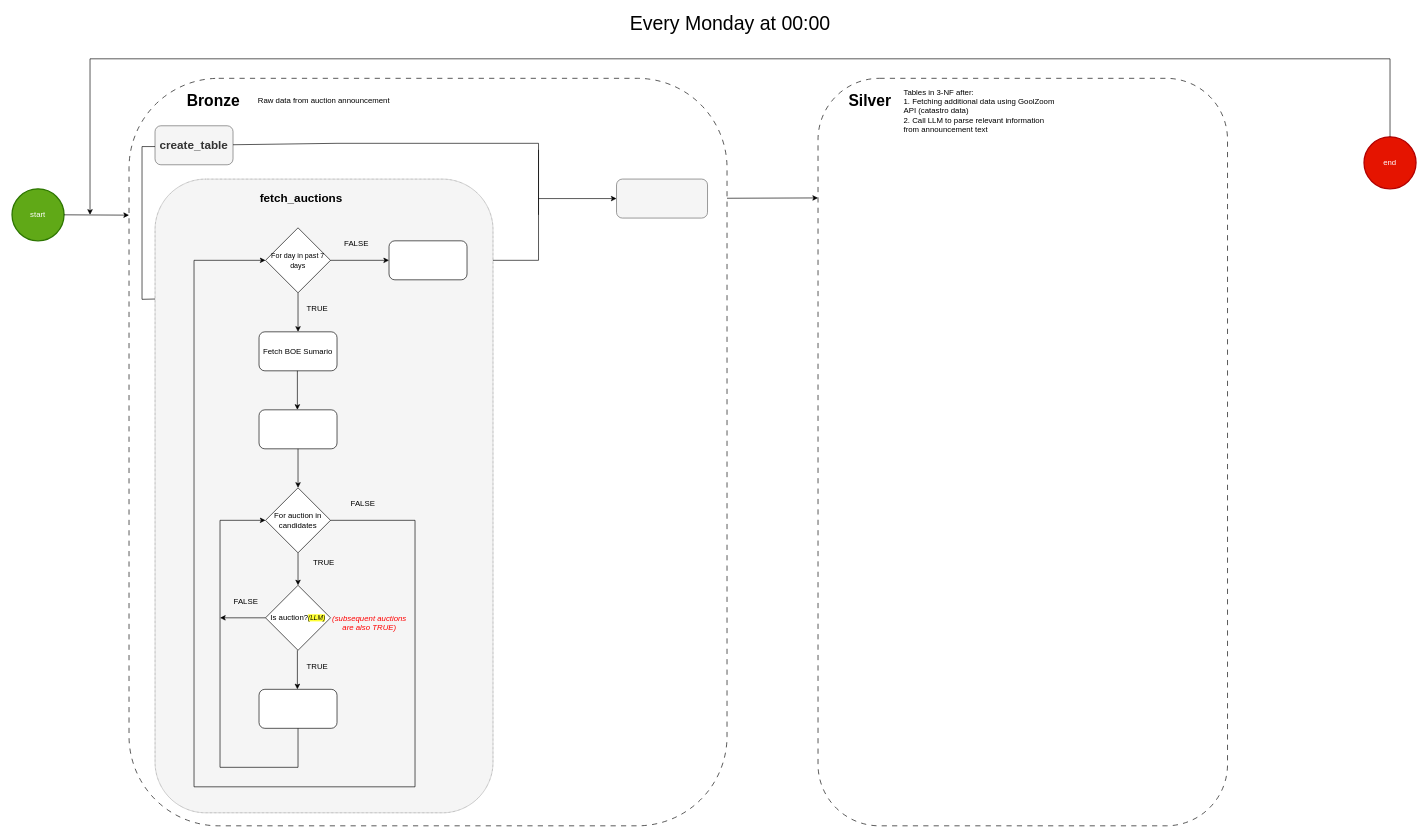
Image size: 1427x837. Some labels were removed from this diagram. Each missing label, with the centre of its shape:
Get information about auction: point (297, 708)
load_auctions: point (662, 198)
Parse candidate auctions (regex): point (297, 429)
Return auctions: point (427, 260)
